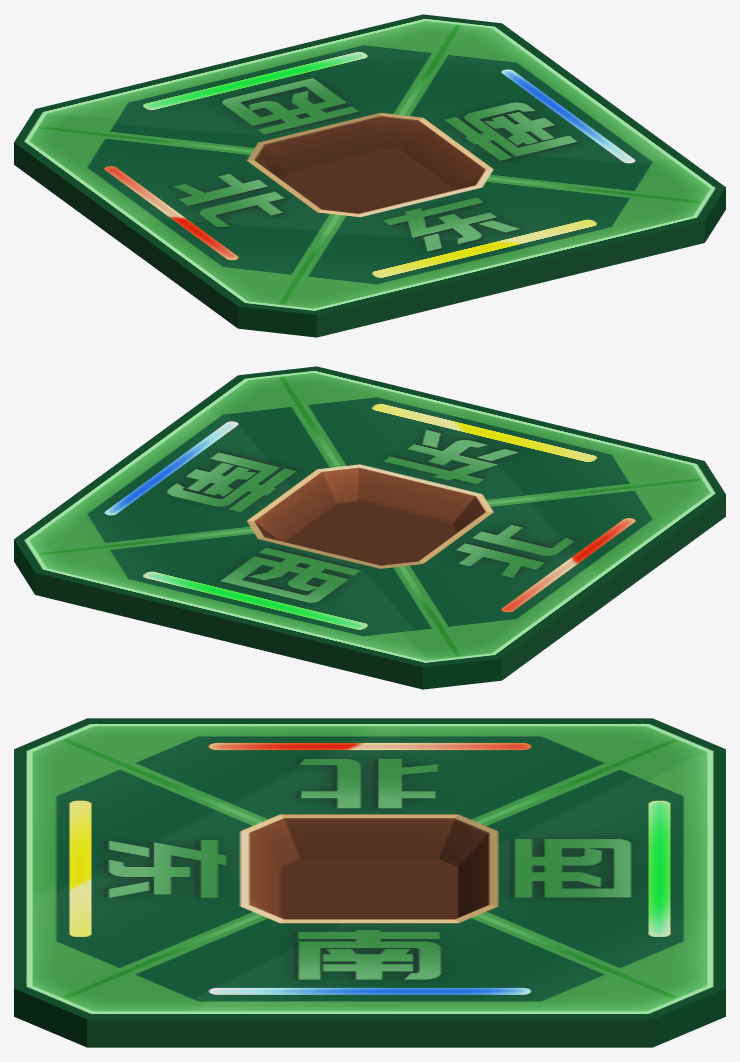
File: MJDisk0.fbx
The picture shows the model from 3 angles, top to bottom: view 1: azimuth 30°, elevation 25°; view 2: azimuth 150°, elevation 25°; view 3: azimuth 270°, elevation 25°; orthographic projection. The views are drawn at different scales.
Visible parts, largest first — view 1: Cube.012; view 2: Cube.012; view 3: Cube.012.
Part boxes in pixels (x1=…): Cube.012: x1=14, y1=14, x2=725, y2=337; Cube.012: x1=14, y1=366, x2=725, y2=689; Cube.012: x1=14, y1=718, x2=725, y2=1047.
Size of the model in its own units: 720 by 31.46 by 720.
